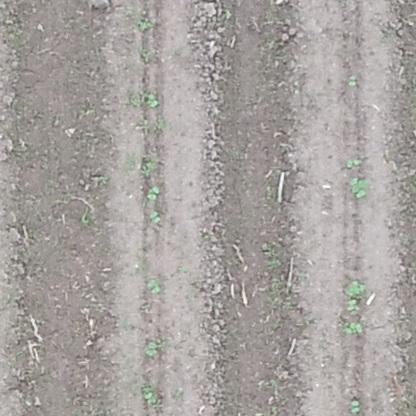vc: (348, 176, 370, 199), (344, 320, 364, 336), (345, 279, 366, 294), (344, 155, 362, 169), (348, 396, 363, 412), (145, 278, 161, 292), (145, 92, 158, 109), (145, 184, 159, 199), (145, 390, 159, 404), (346, 298, 360, 311), (348, 74, 358, 87), (150, 210, 161, 220)
